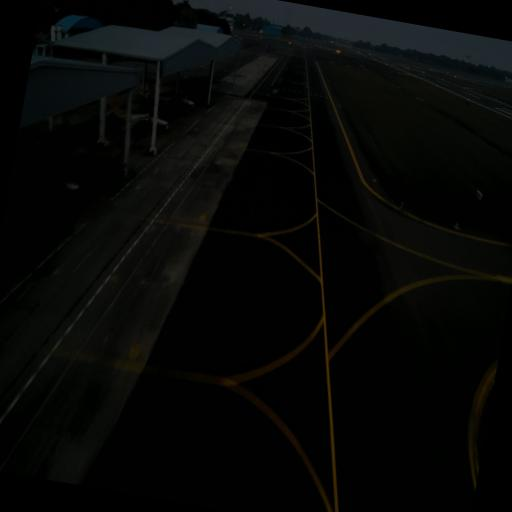on: (454, 220, 460, 230)
